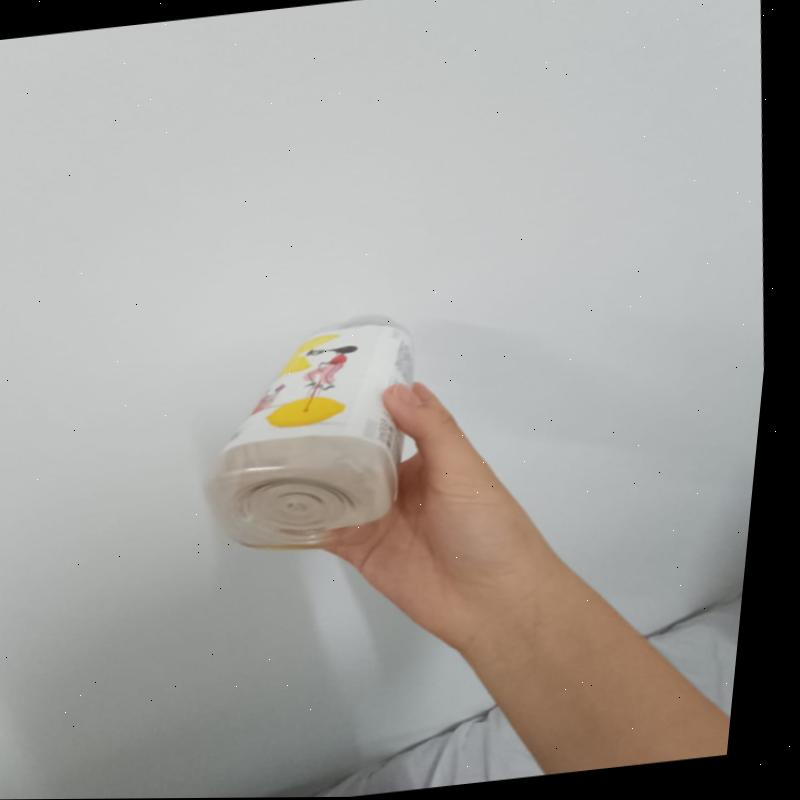botella: (197, 308, 444, 563)
